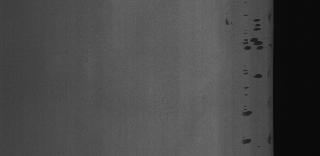oil spot: (242, 10, 266, 54), (240, 65, 266, 82), (238, 105, 252, 119), (240, 136, 256, 148), (223, 14, 230, 26)
